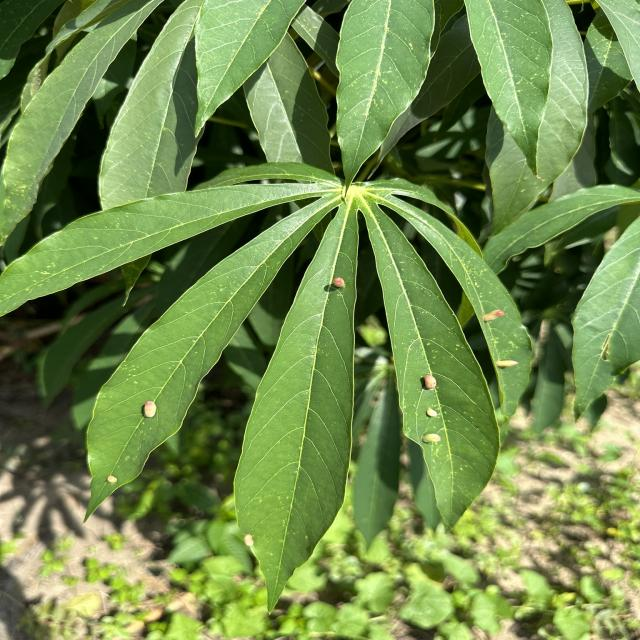Mosca: (416, 370, 445, 451), (478, 296, 505, 332), (488, 351, 524, 374), (133, 393, 160, 423), (326, 269, 356, 295), (102, 469, 120, 488)
